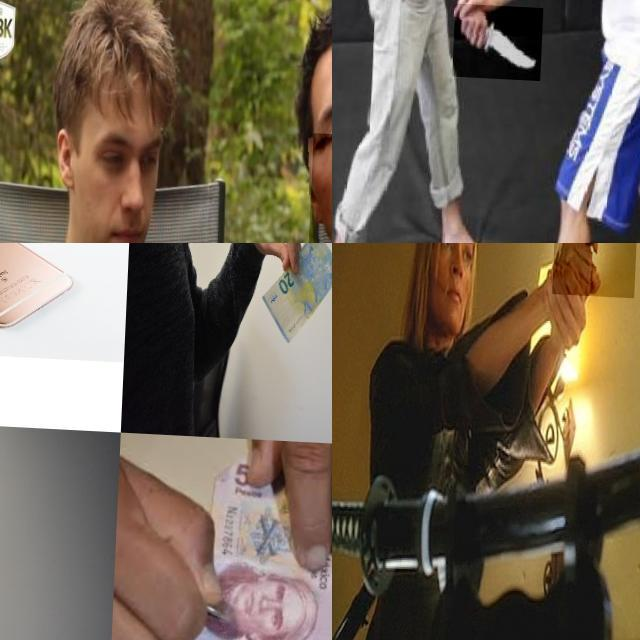-: (456, 0, 547, 77)
gun-knife-thesis - v11 Yolov5 augmented: (553, 243, 640, 324)
